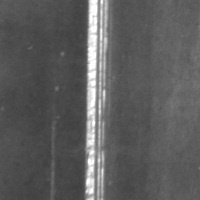scratches: (83, 0, 111, 199)
